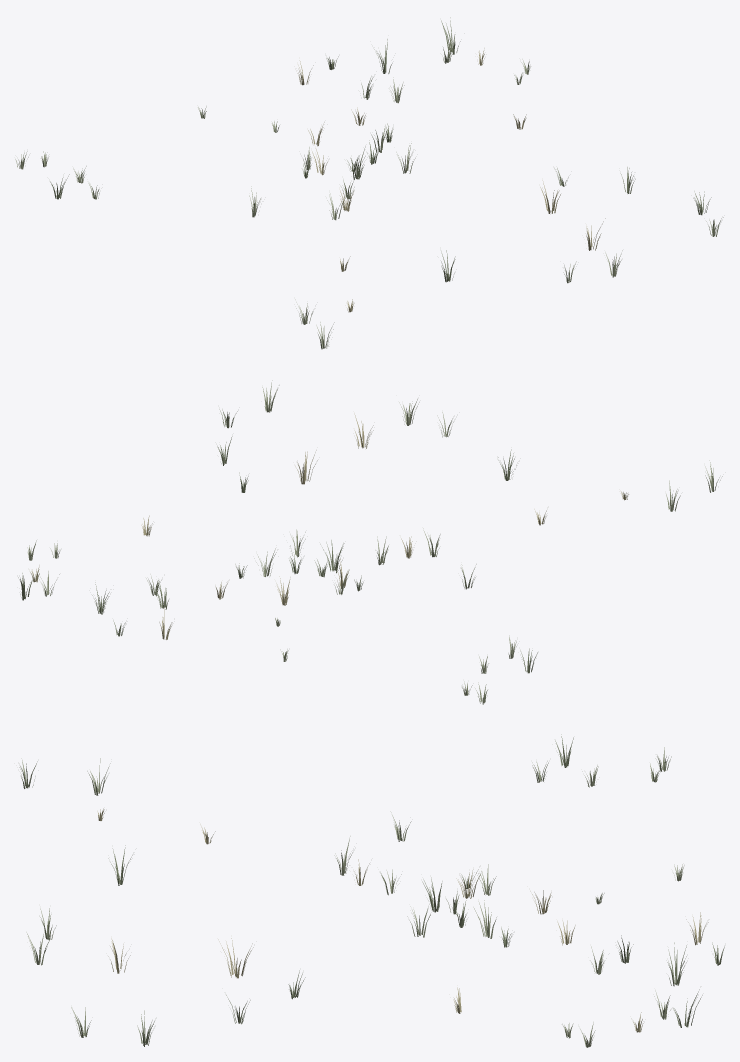
Rendered from AE_Grass_2_-1.fbx.
3 views of the same model, one above another, from view 1: azimuth 30°, elevation 25°; view 2: azimuth 150°, elevation 25°; view 3: azimuth 270°, elevation 25° (orthographic). The views are drawn at different scales.
Visible parts, largest first — view 1: AE_Grass_2_-1_LOD0; view 2: AE_Grass_2_-1_LOD0; view 3: AE_Grass_2_-1_LOD0.
Boxes of the visible parts, x1=… form: AE_Grass_2_-1_LOD0: x1=15, y1=17, x2=723, y2=349; AE_Grass_2_-1_LOD0: x1=18, y1=380, x2=722, y2=704; AE_Grass_2_-1_LOD0: x1=19, y1=734, x2=724, y2=1047.
Size of what is drawn, in the model's own units: 1568 by 108 by 1629.
